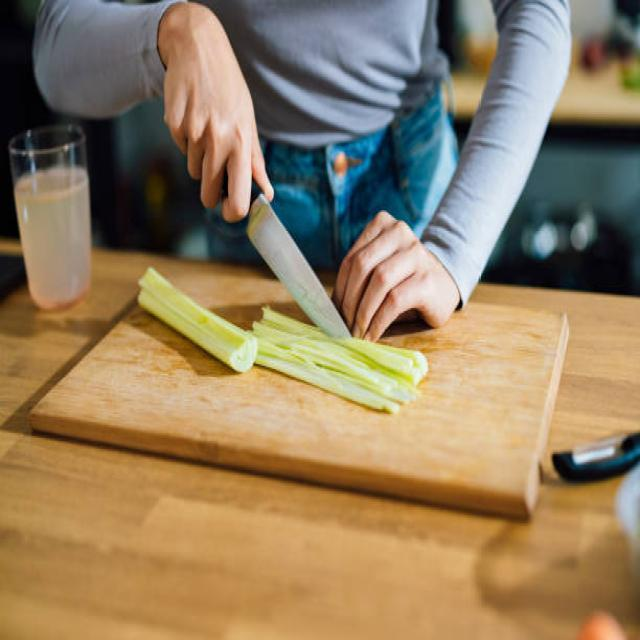faca: (137, 1, 363, 352)
